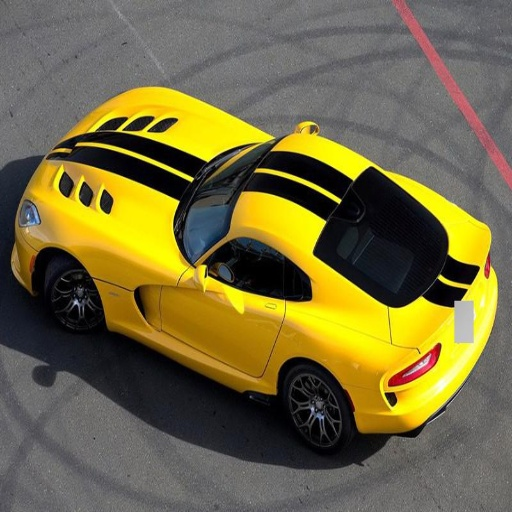back_bumper: (351, 374, 416, 431)
back_glass: (342, 31, 466, 172), (84, 135, 225, 195), (354, 254, 407, 303)
back_left_door: (243, 256, 285, 367)
tailgate: (188, 186, 234, 261)
